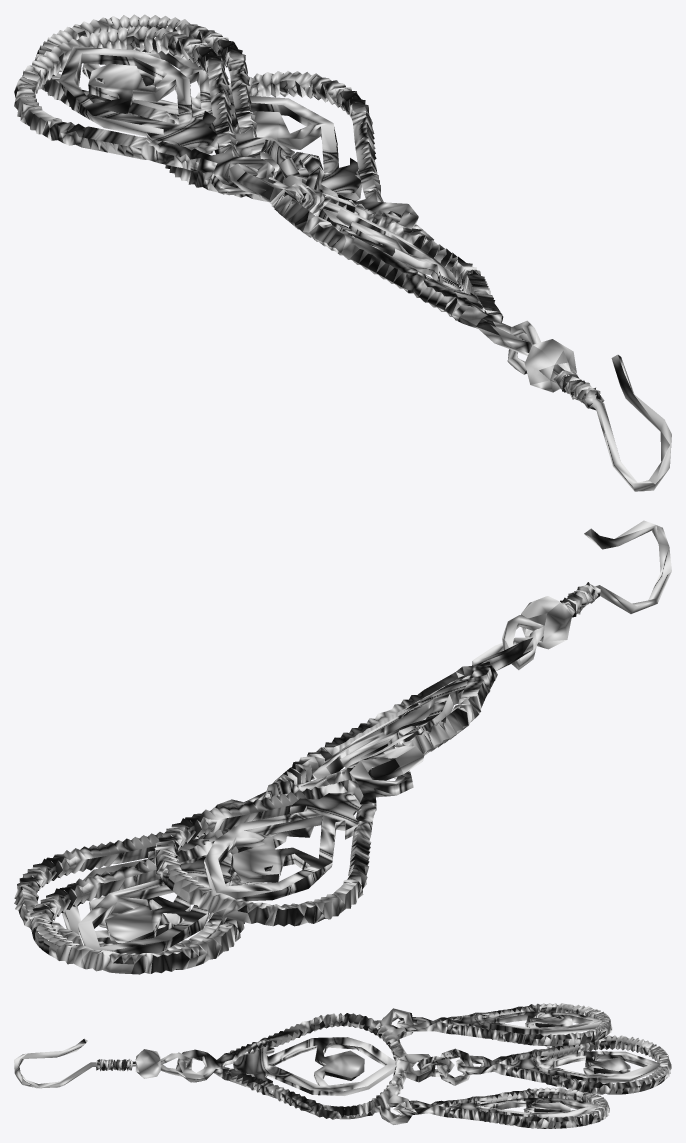
3 views of the same model, one above another, from view 1: azimuth 30°, elevation 25°; view 2: azimuth 150°, elevation 25°; view 3: azimuth 270°, elevation 25° (orthographic). The views are drawn at different scales.
Parts seen in each view (by area): view 1: 11763_earings_v1_L1; view 2: 11763_earings_v1_L1; view 3: 11763_earings_v1_L1.
Part boxes in pixels (left/top/right/bottom): 11763_earings_v1_L1: left=14, top=14, right=671, bottom=491; 11763_earings_v1_L1: left=14, top=520, right=671, bottom=974; 11763_earings_v1_L1: left=14, top=1003, right=671, bottom=1128.
Size of the model in its own units: 2.43 by 0.906 by 7.6.
Materials: 3 (3 with a texture image).
